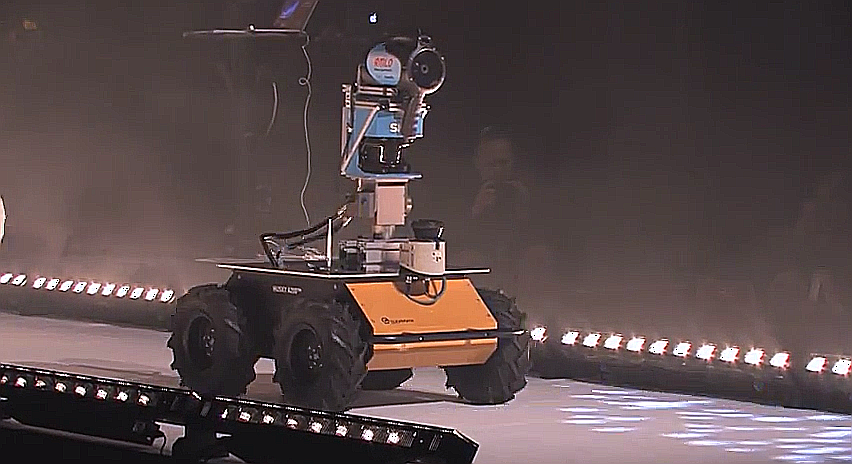husky: (167, 261, 532, 416)
